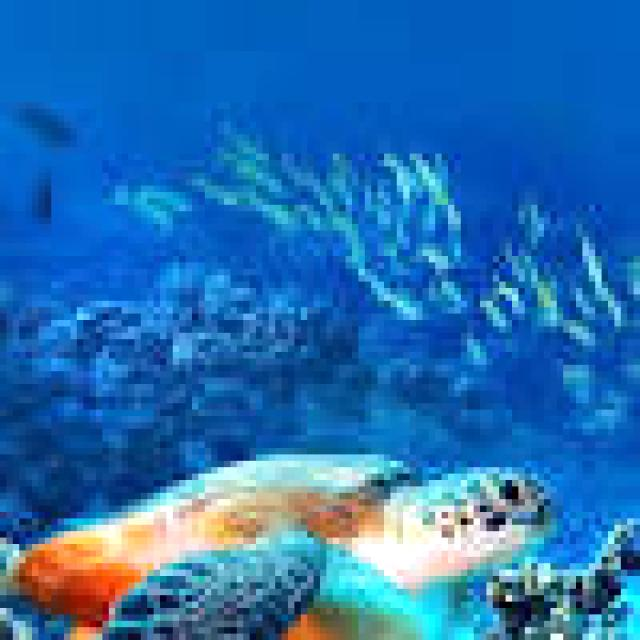Sea turtle: (0, 448, 550, 640)
